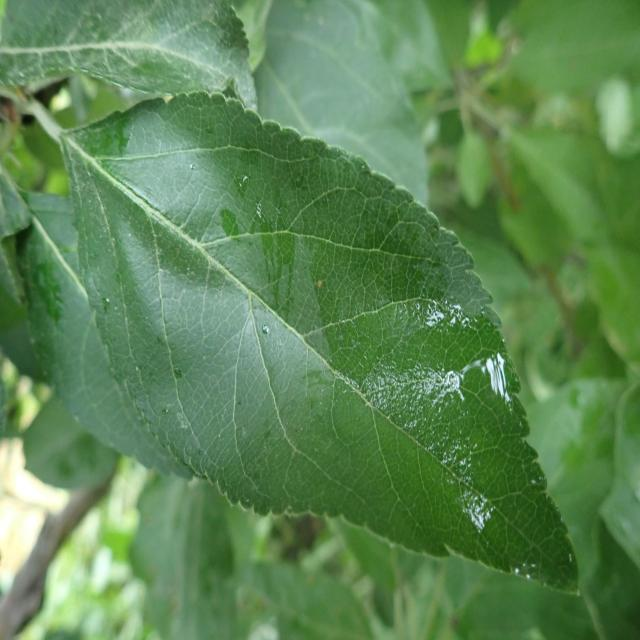healthy: (57, 88, 583, 594), (19, 192, 198, 483), (250, 0, 431, 211), (0, 0, 259, 112)
